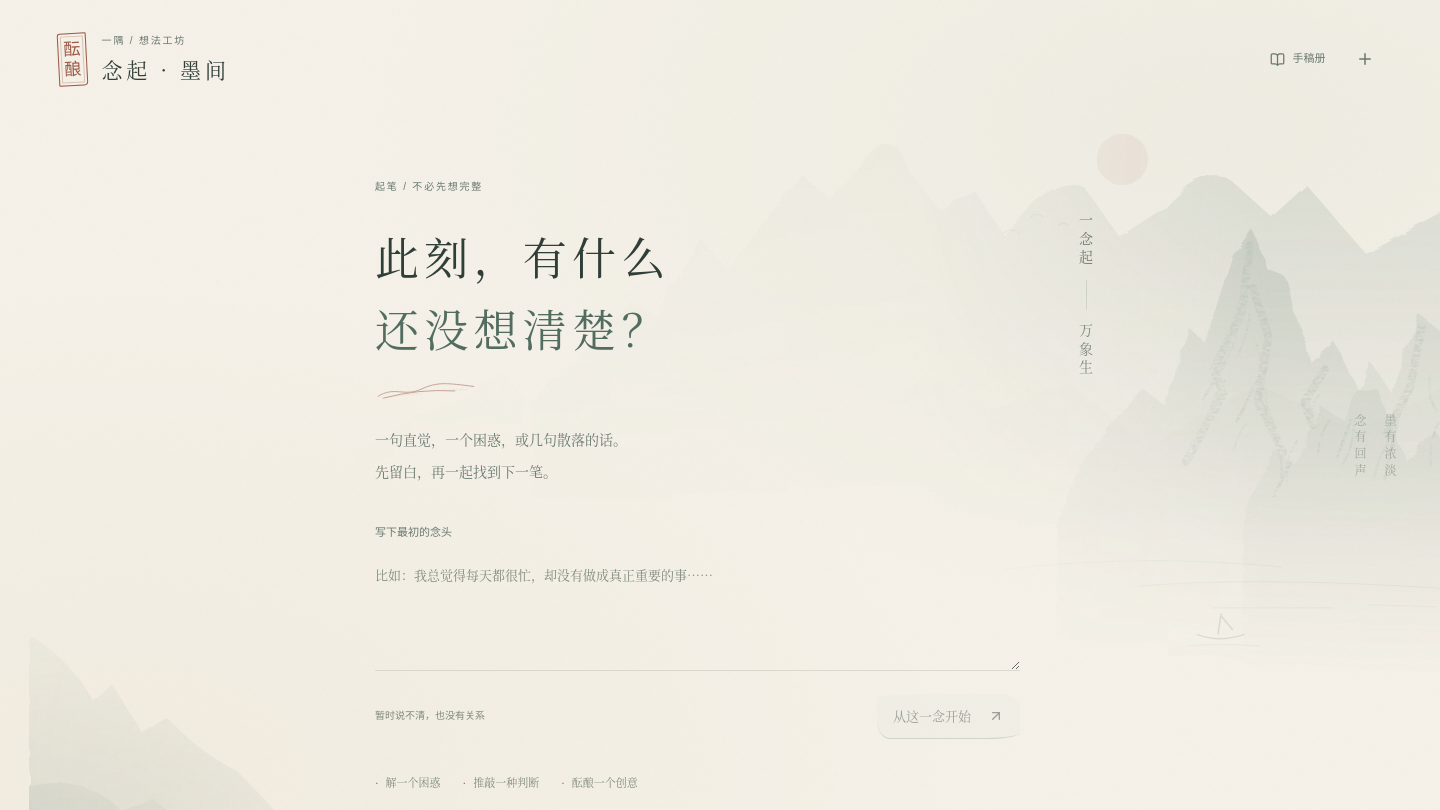
Test case: ink manuscript interaction › uses the existing privacy review UI and does not write a turn after the user declines
Step 1. Type "一点想法" into the text box labelled "写下最初的念头" → (698, 612), box [375, 553, 1020, 670]
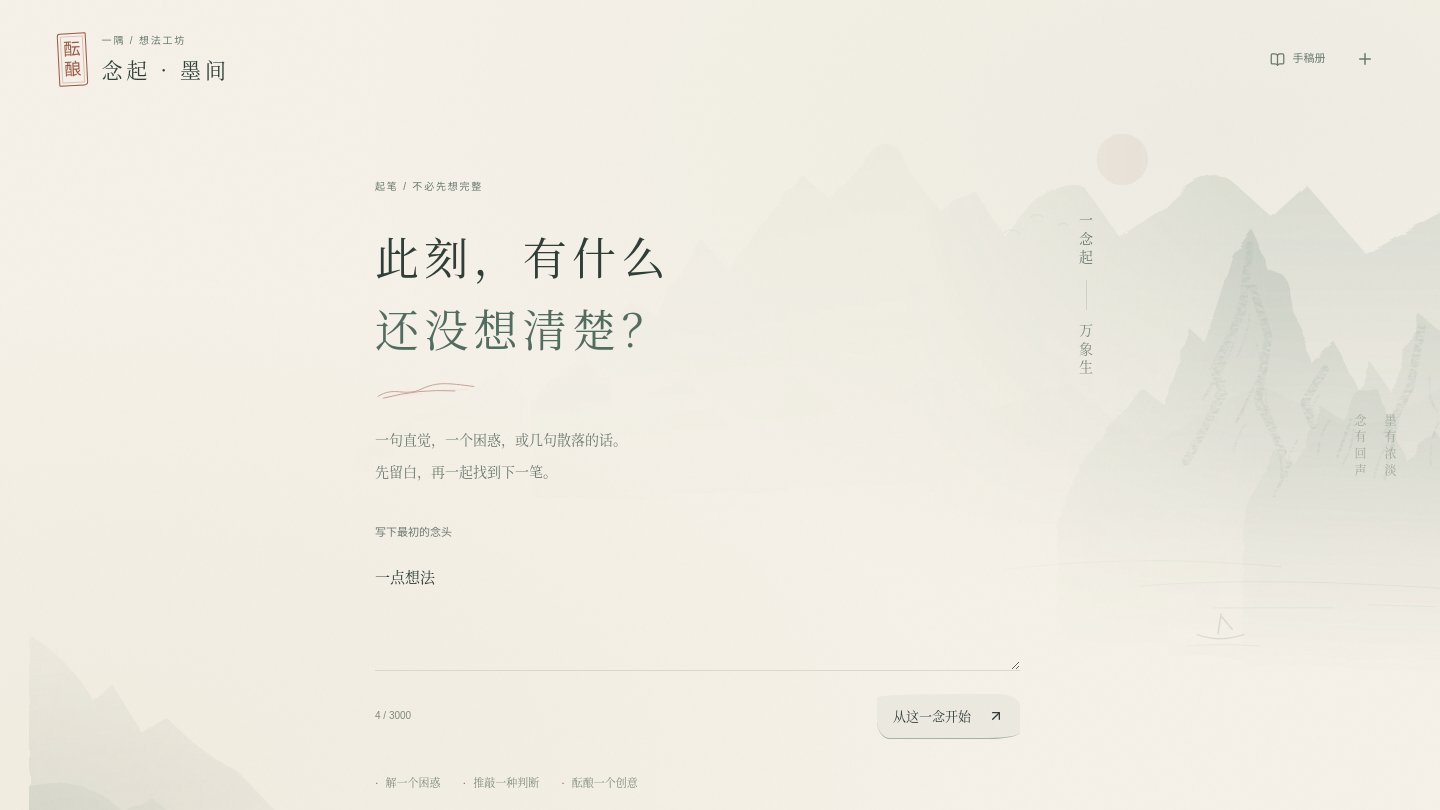
Step 2. Click the button "从这一念开始" → (948, 716), box [877, 694, 1020, 739]
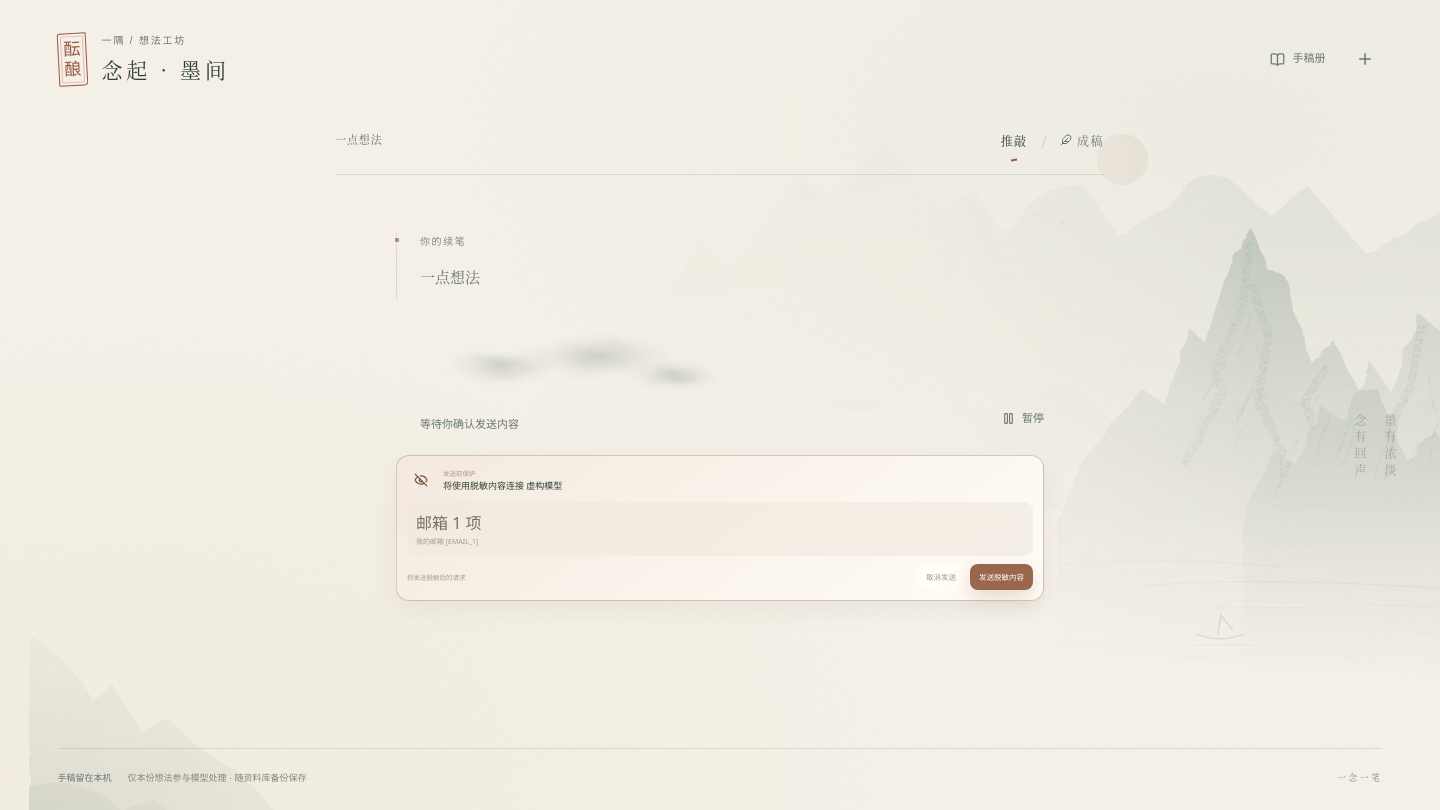
Expected: the dialog "发送前保护" is shown, [396, 455, 1044, 600]
Step 3. Click the button "取消发送" → (941, 577), box [917, 564, 965, 590]
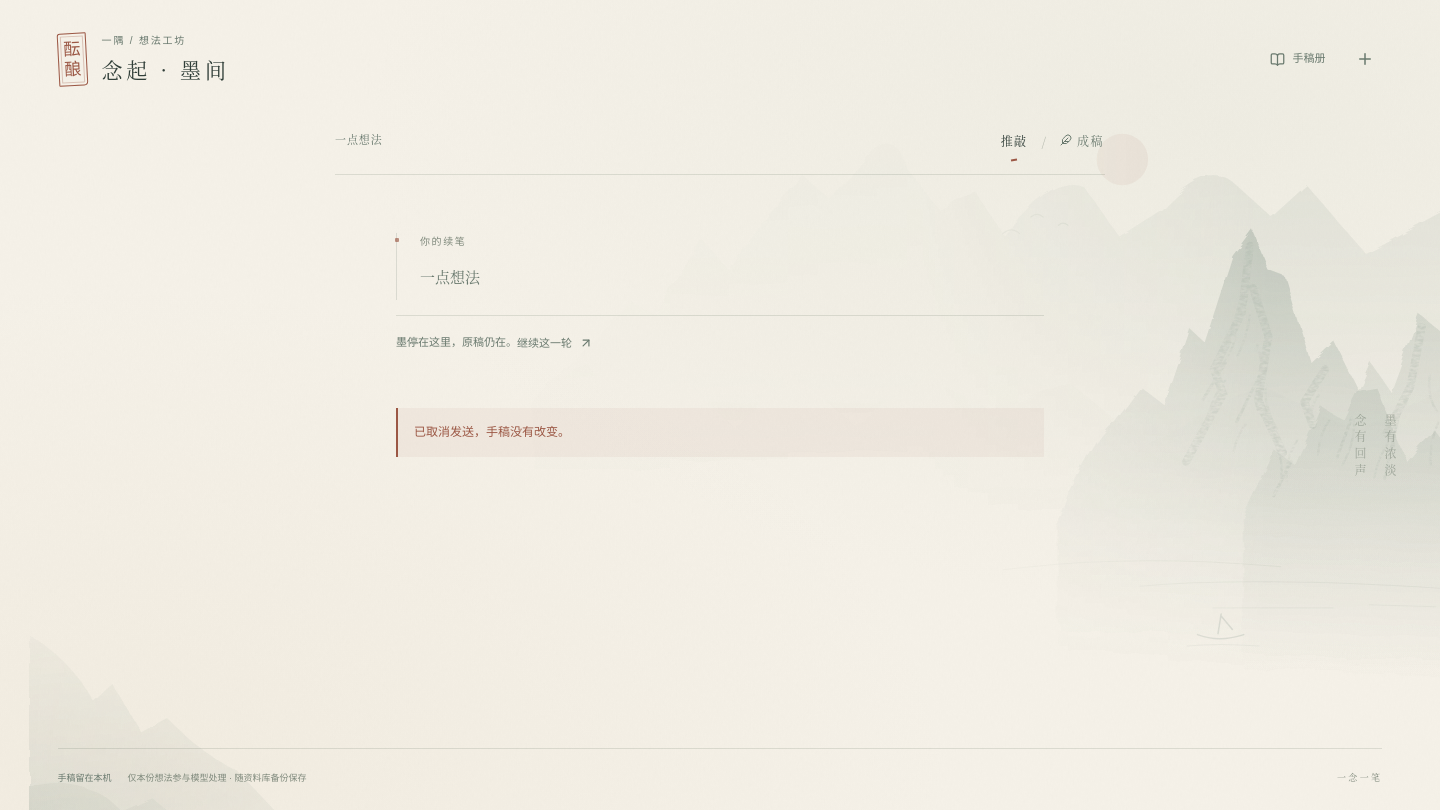
Expected: the button "继续这一轮" is enabled, [517, 327, 593, 359]
Expected: the message "已取消发送，手稿没有改变。" is shown, [396, 408, 1044, 457]
